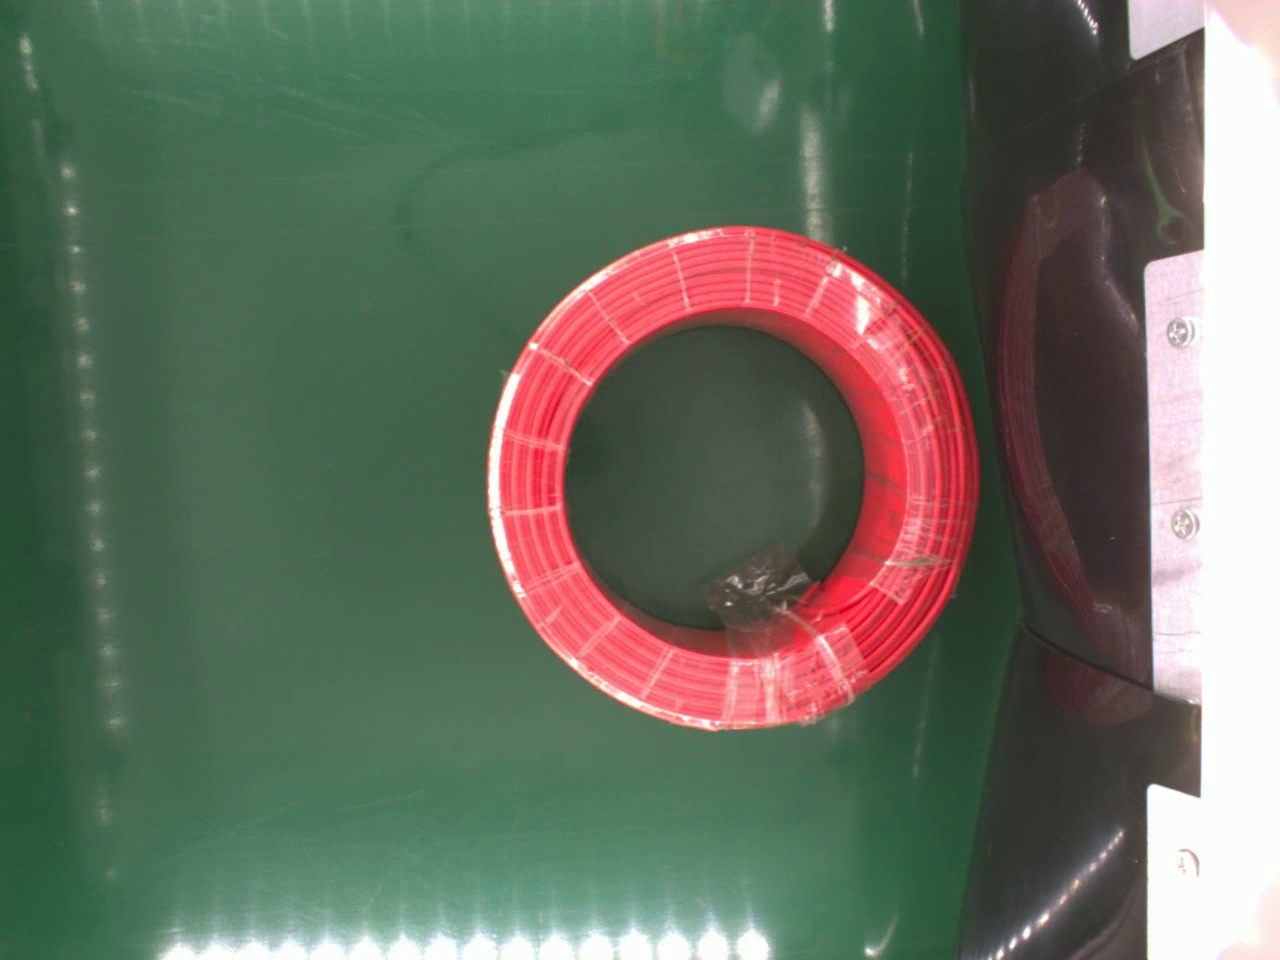red: (486, 223, 981, 734)
